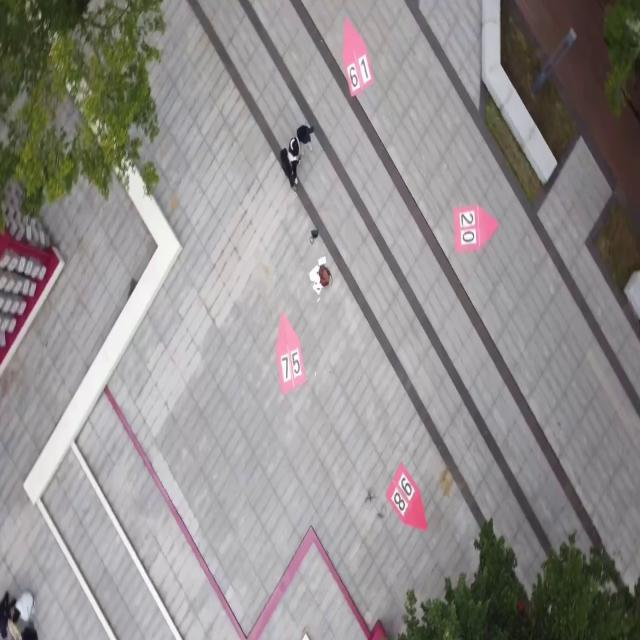-sign-: (270, 307, 306, 406), (340, 15, 377, 106)
